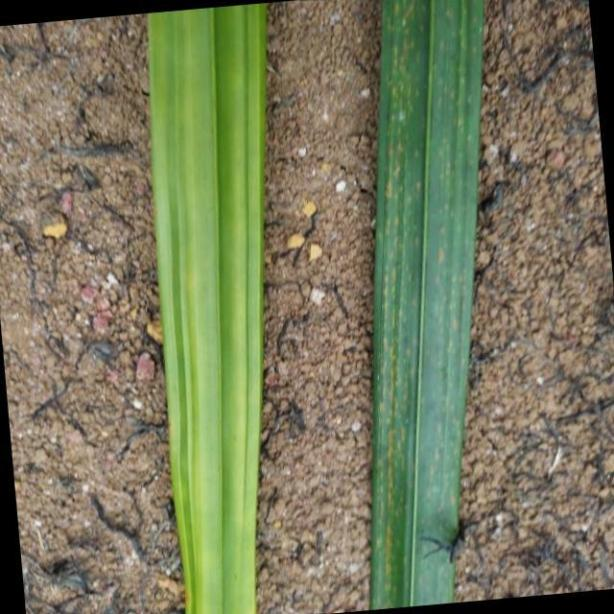nitrogen: (149, 0, 267, 614), (371, 0, 488, 614)
